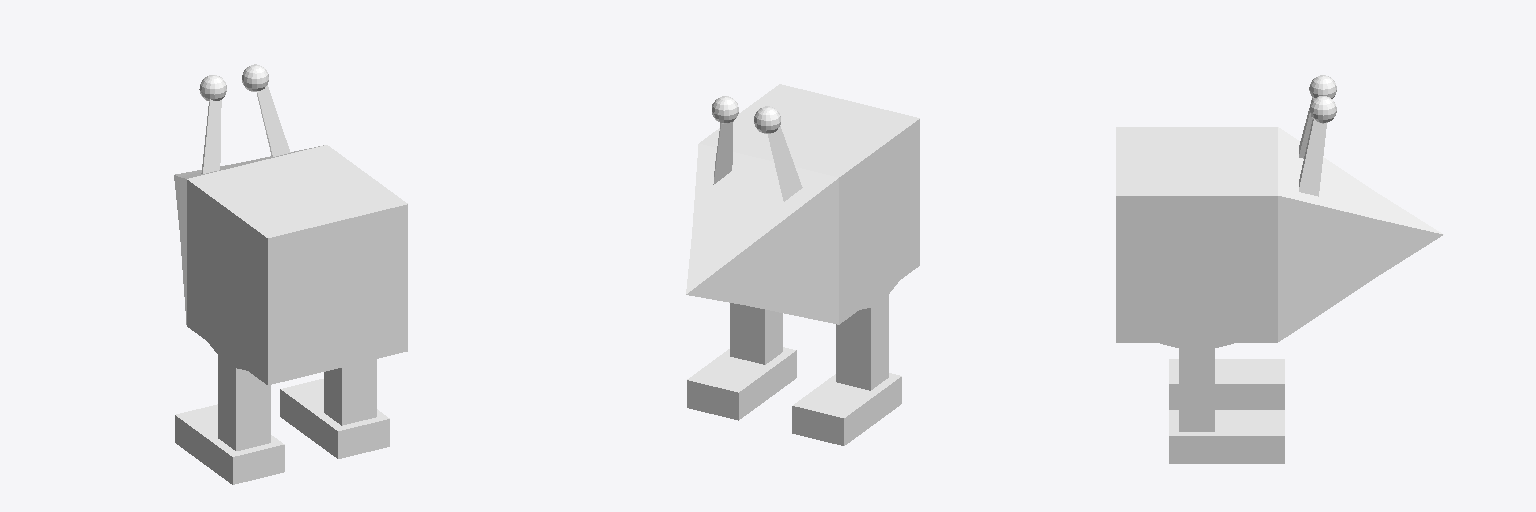
Rendered from generic_object_Chappy.obj.
The picture shows the model from 3 angles: view 1: azimuth 30°, elevation 25°; view 2: azimuth 150°, elevation 25°; view 3: azimuth 270°, elevation 25°; orthographic projection.
Visible parts, largest first — view 1: Cube, Sphere.001_Sphere.002; view 2: Cube, tip_Cube.001, Sphere.001_Sphere.002; view 3: Cube, tip_Cube.001, Sphere.001_Sphere.002.
Part boxes in pixels (x1,y1,x2,y2): Cube: (175, 85, 407, 484); Sphere.001_Sphere.002: (199, 64, 268, 101); Cube: (687, 84, 919, 445); tip_Cube.001: (686, 238, 743, 304); Sphere.001_Sphere.002: (712, 96, 780, 133); Cube: (1116, 98, 1380, 463); tip_Cube.001: (1381, 195, 1443, 273); Sphere.001_Sphere.002: (1309, 75, 1336, 123).
Bounding box in the file's own units: 2.24 × 4.6 × 4.04.